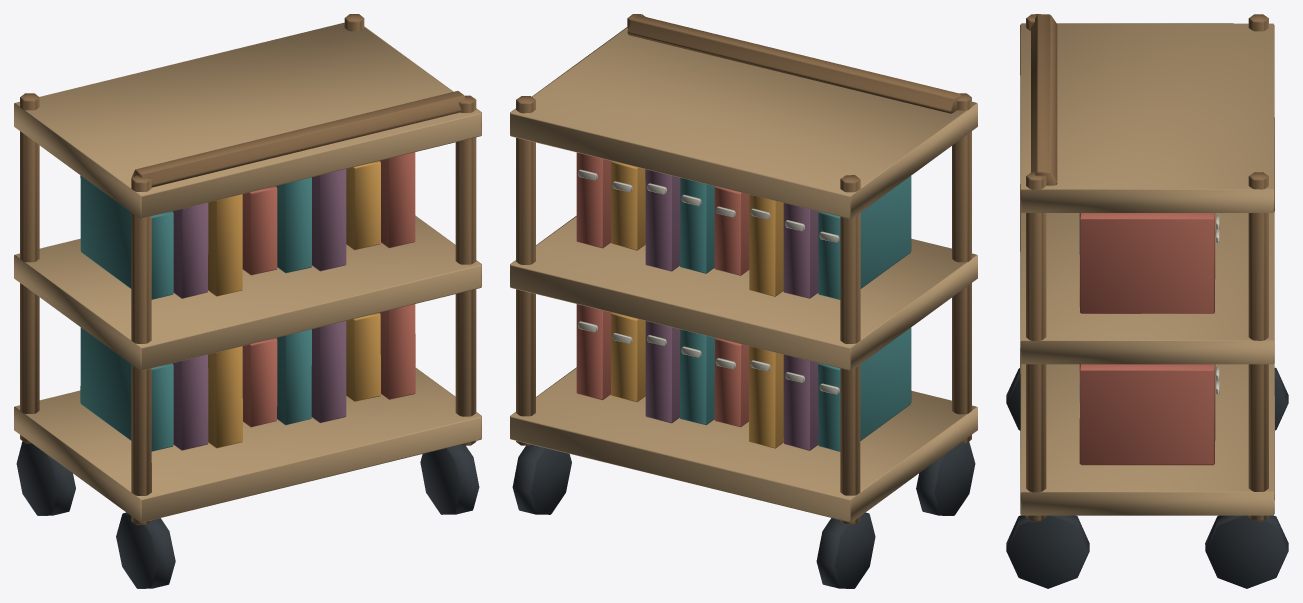
The model's file is bookcart_low.glb.
3 views of the same model, side by side, from view 1: azimuth 30°, elevation 25°; view 2: azimuth 150°, elevation 25°; view 3: azimuth 270°, elevation 25° (orthographic).
Size of the model in its own units: 0.99 by 1.16 by 0.71.
